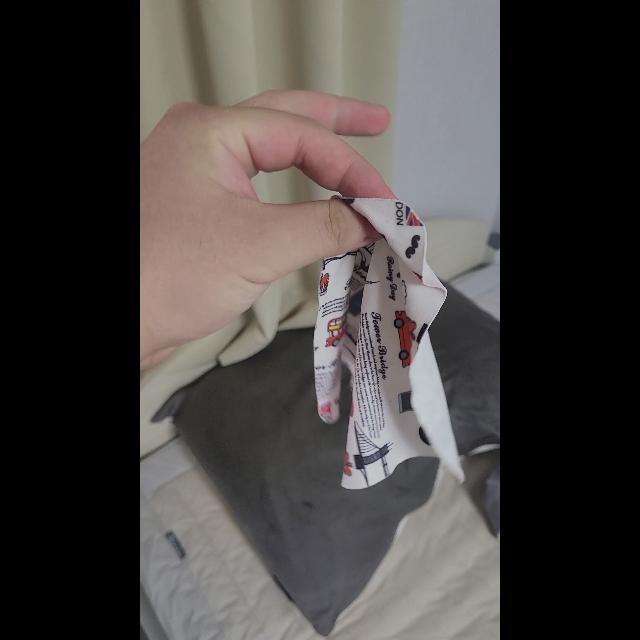Glasses cleaning cloth: (313, 196, 465, 490)
